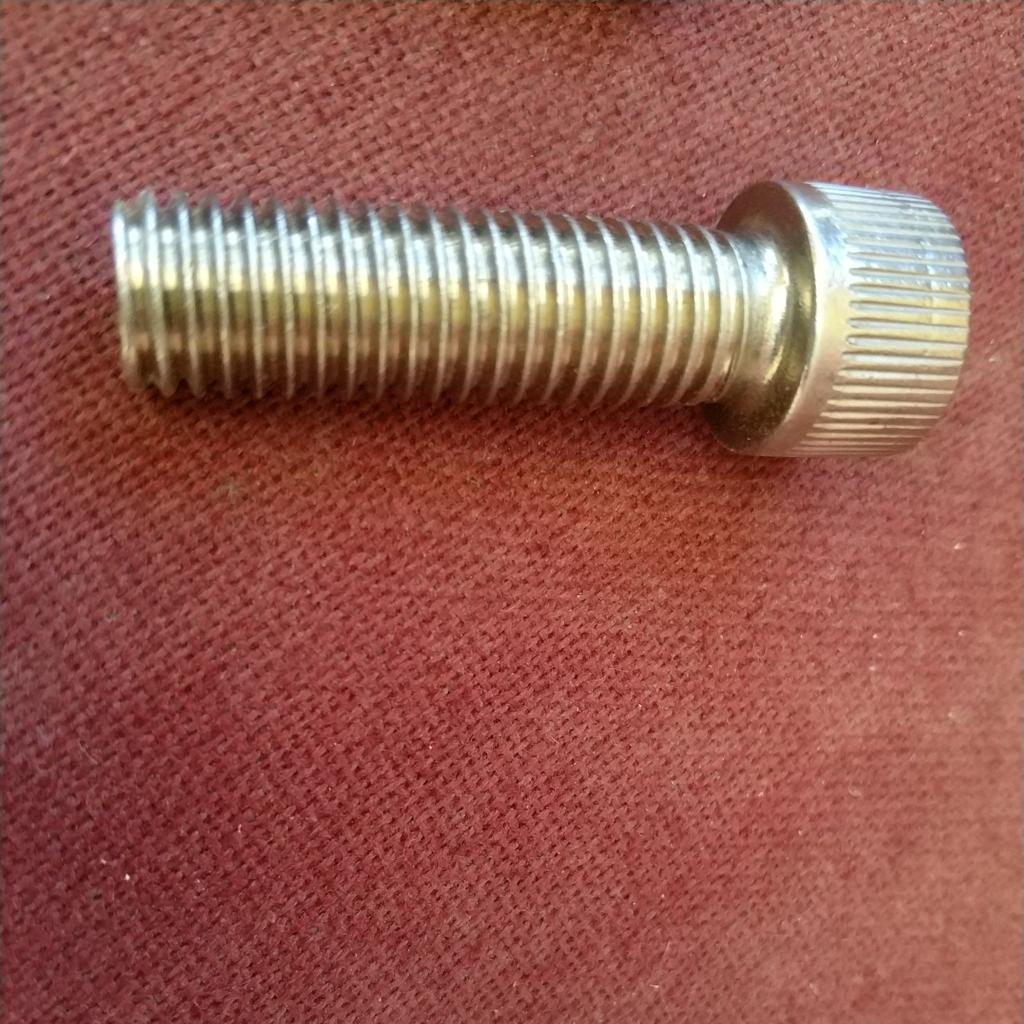screwtype1silver: (89, 172, 976, 465)
